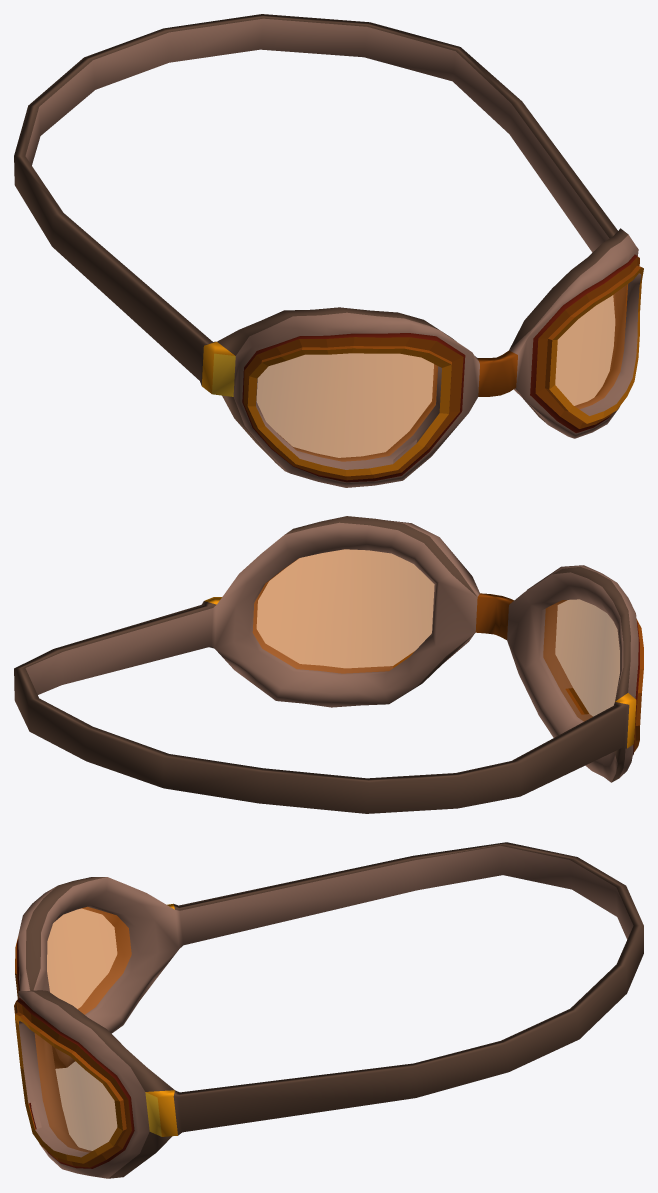
3 views of the same model, one above another, from view 1: azimuth 30°, elevation 25°; view 2: azimuth 150°, elevation 25°; view 3: azimuth 270°, elevation 25° (orthographic). The views are drawn at different scales.
Parts seen in each view (by area): view 1: Eyewear_Aviator; view 2: Eyewear_Aviator; view 3: Eyewear_Aviator.
Boxes of the visible parts, x1,y1,x2,y2 form: Eyewear_Aviator: [14, 14, 643, 487]; Eyewear_Aviator: [14, 516, 643, 813]; Eyewear_Aviator: [14, 842, 643, 1178].
Size of what is drawn, in the model's own units: 0.2454 by 0.101 by 0.3077.
2 materials, 2 textured.
